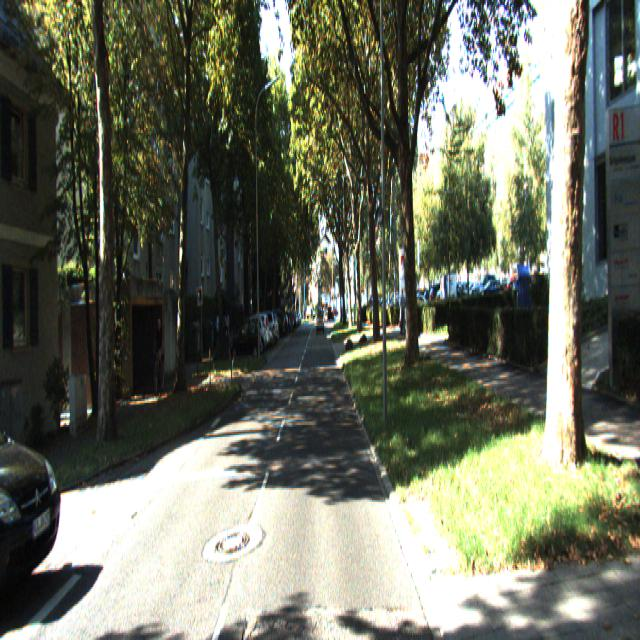Car: (0, 358, 71, 638), (228, 317, 261, 359)
